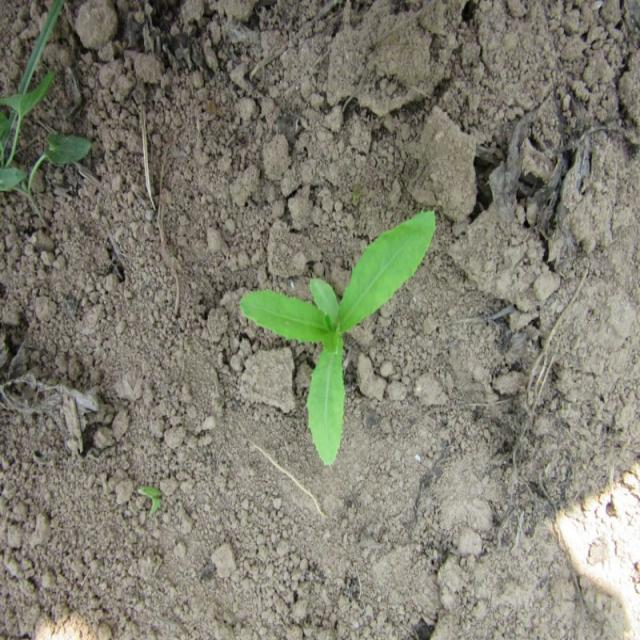field_thistle: (220, 201, 454, 464)
